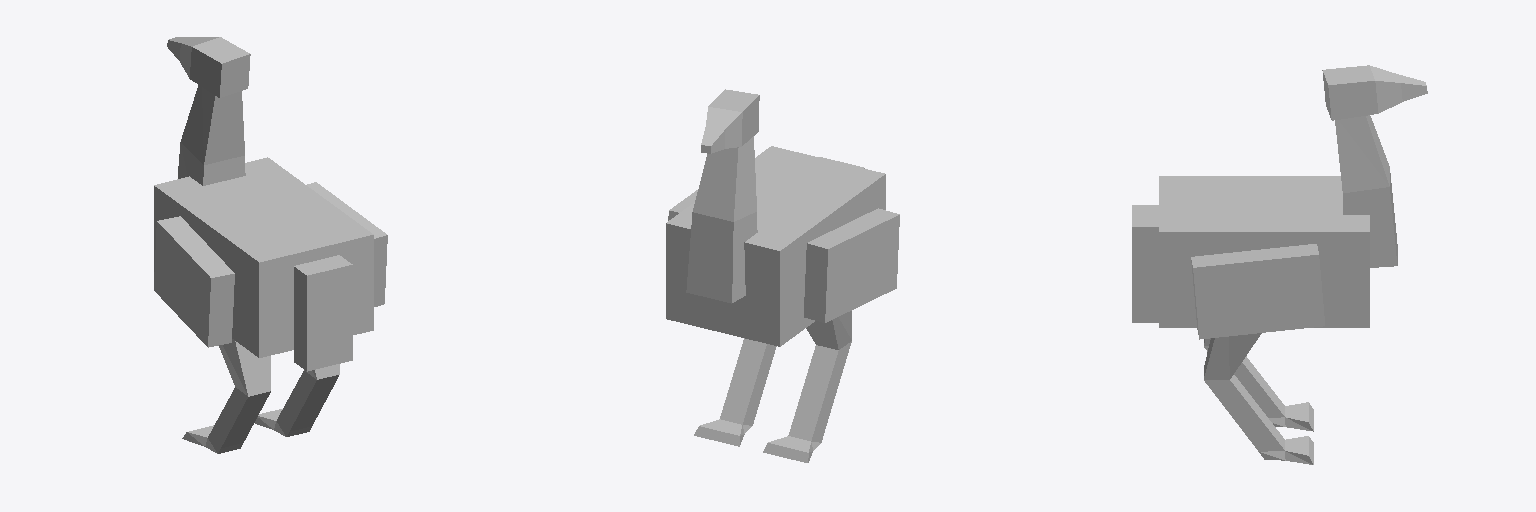
File: Ostrich_000012.obj
The picture shows the model from 3 angles: view 1: azimuth 30°, elevation 25°; view 2: azimuth 150°, elevation 25°; view 3: azimuth 270°, elevation 25°; orthographic projection.
Visible parts, largest first — view 1: Cube_Cube.001; view 2: Cube_Cube.001; view 3: Cube_Cube.001.
Boxes of the visible parts, box(x1,y1,x2,y2) form: Cube_Cube.001: box(154, 37, 387, 453); Cube_Cube.001: box(666, 89, 899, 462); Cube_Cube.001: box(1132, 65, 1427, 464).
Size of the model in its own units: 0.7728 by 1.51 by 1.12.